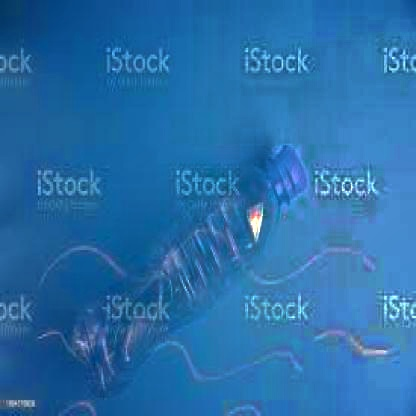pbottle: (49, 130, 312, 396)
